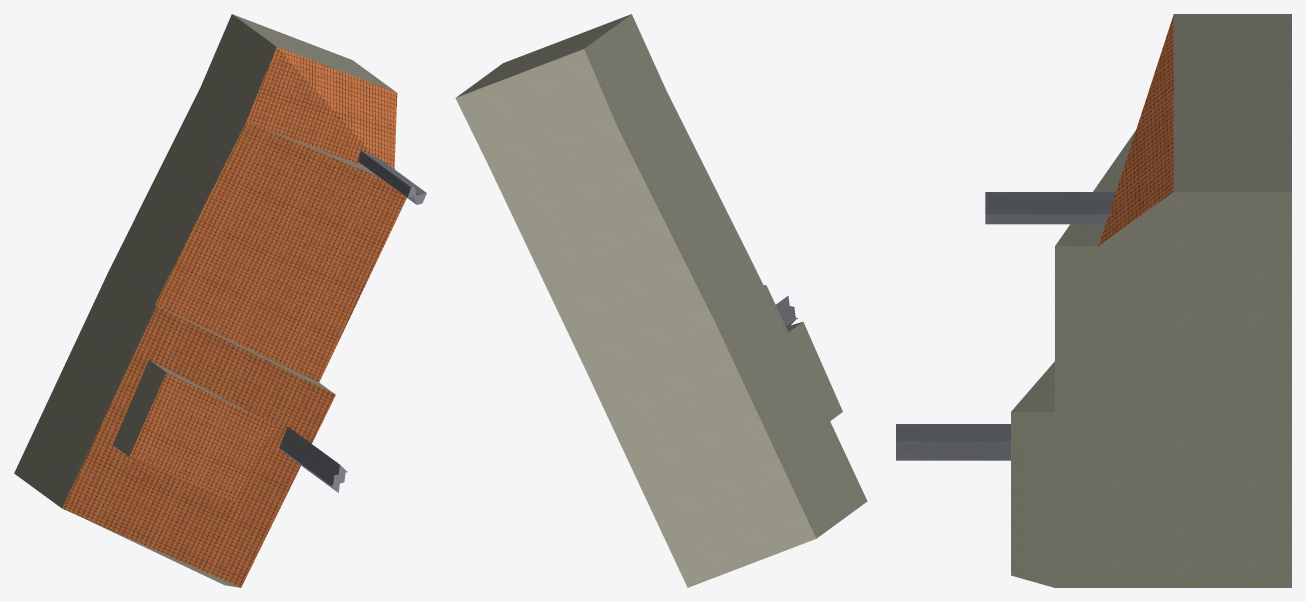
The model's file is Viru18-origo.obj.
3 views of the same model, side by side, from view 1: azimuth 30°, elevation 25°; view 2: azimuth 150°, elevation 25°; view 3: azimuth 270°, elevation 25° (orthographic). The views are drawn at different scales.
Visible parts, largest first — view 1: V18_Building; view 2: V18_Building; view 3: V18_Building.
Boxes of the visible parts, left/top/right/bottom form: V18_Building: left=14, top=14, right=426, bottom=587; V18_Building: left=455, top=14, right=867, bottom=587; V18_Building: left=896, top=14, right=1291, bottom=587.
Bounding box in the file's own units: 18.75 × 25.5 × 14.37.
